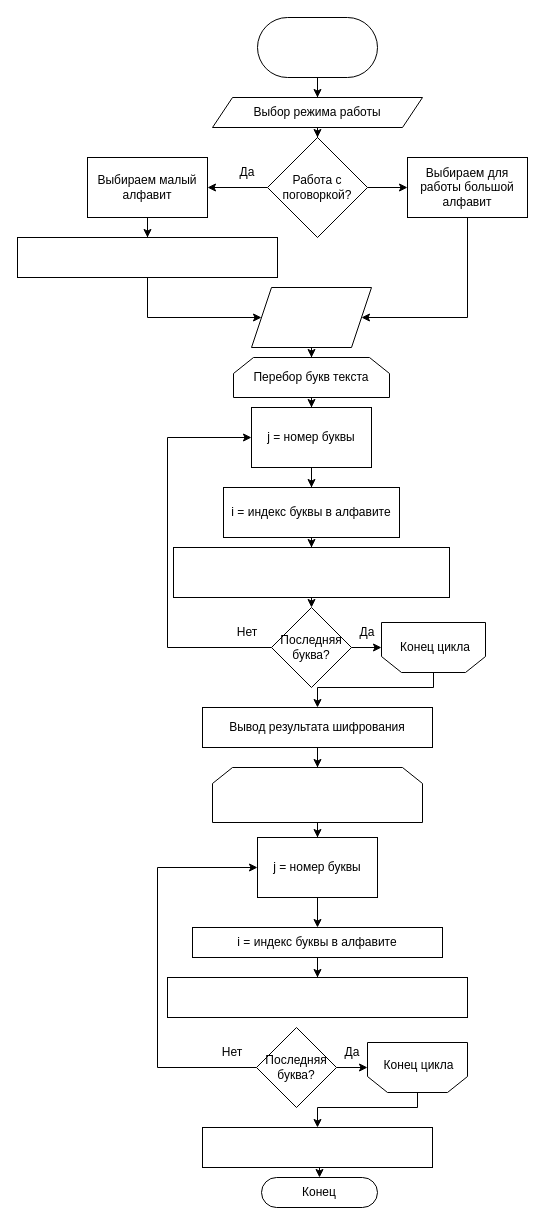
Image size: 545x1225. Some labels were removed from this diagram. Each missing label, with the box of its shape:
Ввод текста: (250, 286, 372, 348)
Вывод результата расшифрования: (202, 1126, 432, 1168)
Добавляем к результату букву из алфавита с индексом i+j по модулю длины алфавита: (172, 546, 450, 598)
Добавляем к результату букву из алфавита с индексом i-j по модулю длины алфавита: (166, 976, 468, 1018)
Заменяем знаки препинания на буквы: (16, 236, 278, 278)
Начало: (256, 16, 378, 78)
Перебор букв шифротекста: (212, 766, 422, 822)
